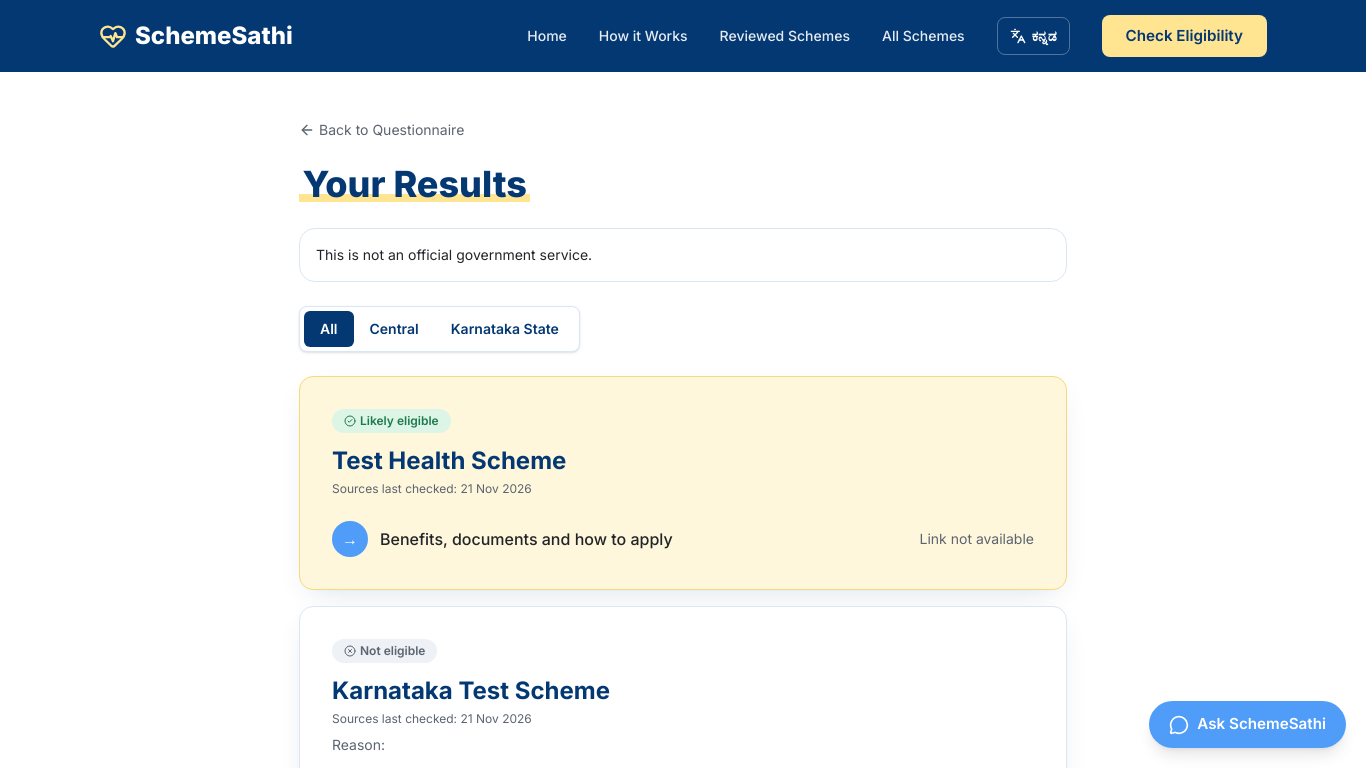
Test case: central / Karnataka filter › filters eligibility results without changing them
Expected: the element "Test Health Scheme" is shown, [299,376,1067,590]
Click the tab "Karnataka State".
click(505, 329)  # box [435,311,575,347]
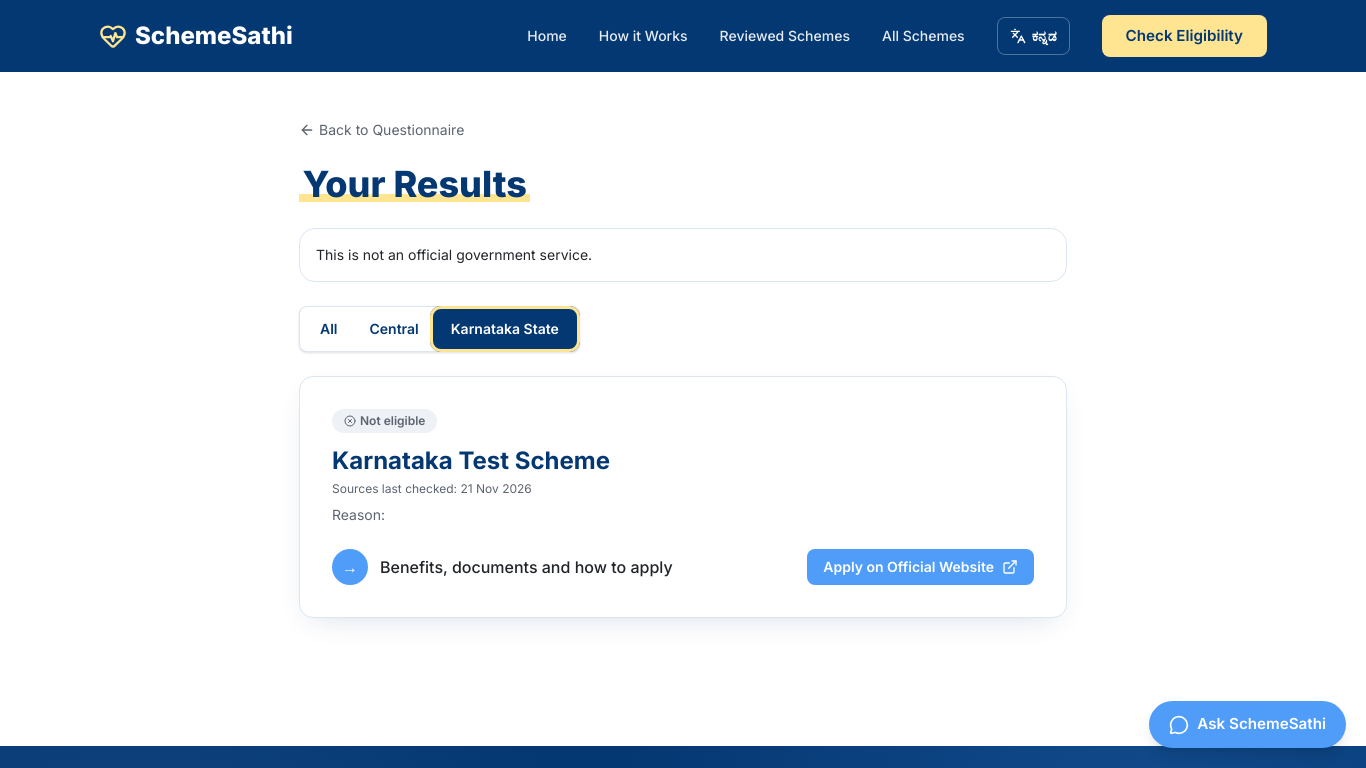
Expected: the element "Karnataka Test Scheme" shows "Not eligible", [360,413,425,428]
Now the heading "Test Health Scheme" is gone
Click the tab "Central".
click(394, 329)  # box [354,311,435,347]
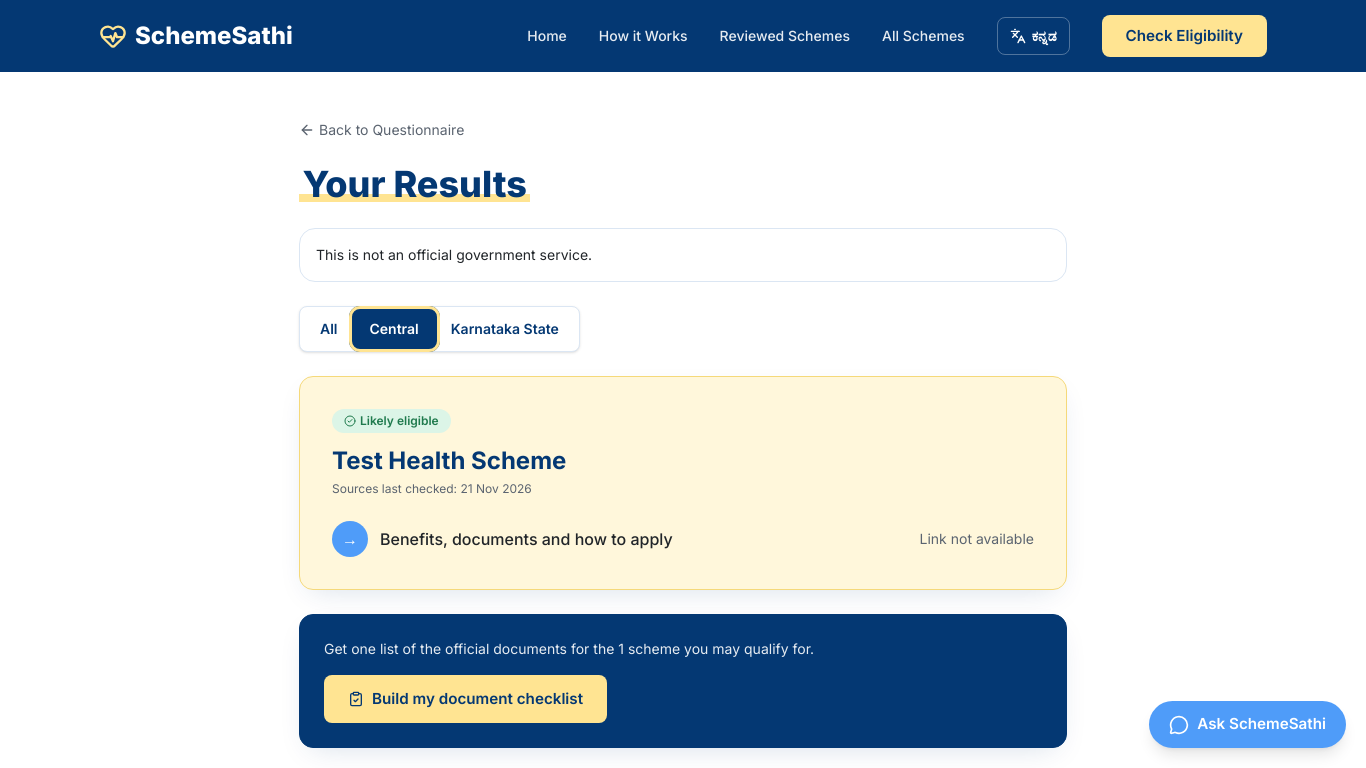
Now the element "Test Health Scheme" shows "Likely eligible", box [360,413,439,428]
Now the heading "Karnataka Test Scheme" is gone
